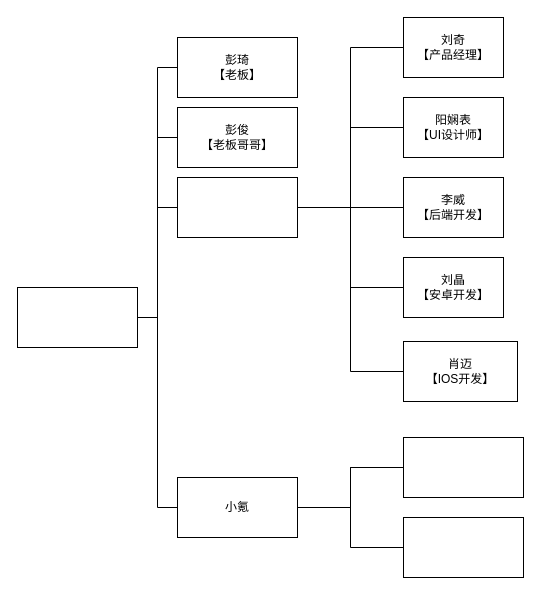
This 541x595 diagram has some shape labels left out. The centre of each missing label's shape, as x and y in pixels:
sdk技术: point 237,207
刘孔文: point 463,467
彭佳宇: point 463,547
湖南七风: point 77,317
